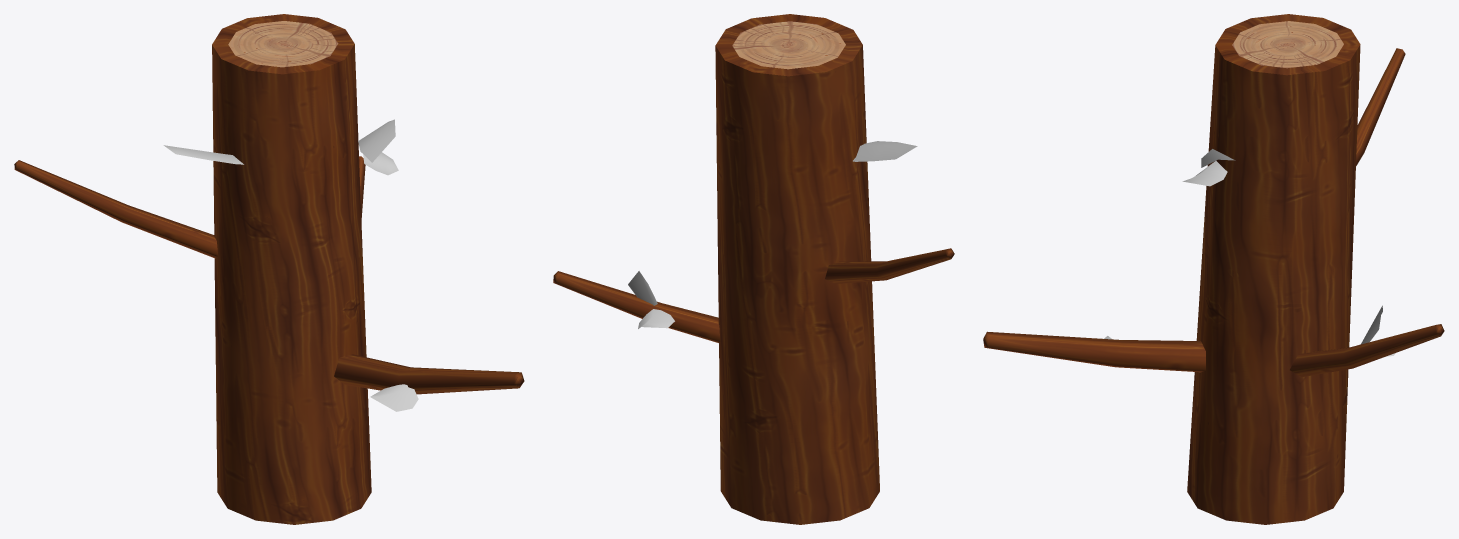
Rendered from obj_harvests_trees_spruce02_p04.fbx.
3 views of the same model, side by side, from view 1: azimuth 30°, elevation 25°; view 2: azimuth 150°, elevation 25°; view 3: azimuth 270°, elevation 25° (orthographic). The views are drawn at different scales.
Visible parts, largest first — view 1: obj_harvests_trees_spruce02_p04; view 2: obj_harvests_trees_spruce02_p04; view 3: obj_harvests_trees_spruce02_p04.
Boxes of the visible parts, x1,y1,x2,y2 form: obj_harvests_trees_spruce02_p04: (14,14,524,524); obj_harvests_trees_spruce02_p04: (553,14,954,524); obj_harvests_trees_spruce02_p04: (983,14,1444,524).
Bounding box in the file's own units: 7.01 × 8.01 × 7.48.
